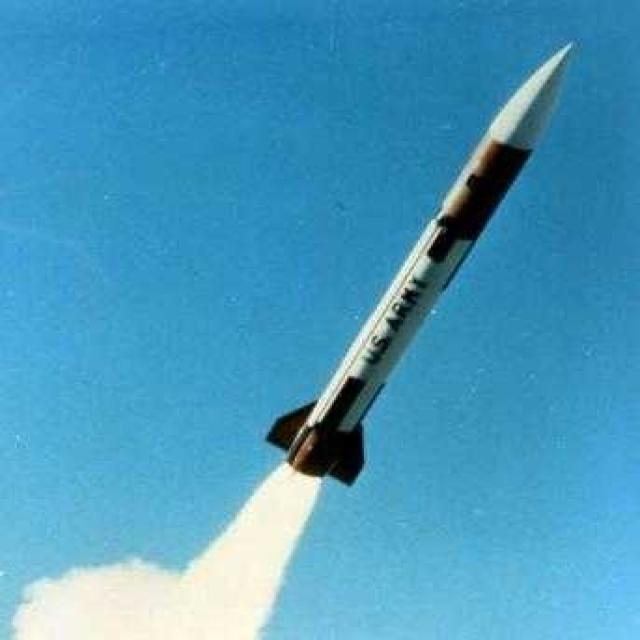missile: (274, 35, 585, 490)
